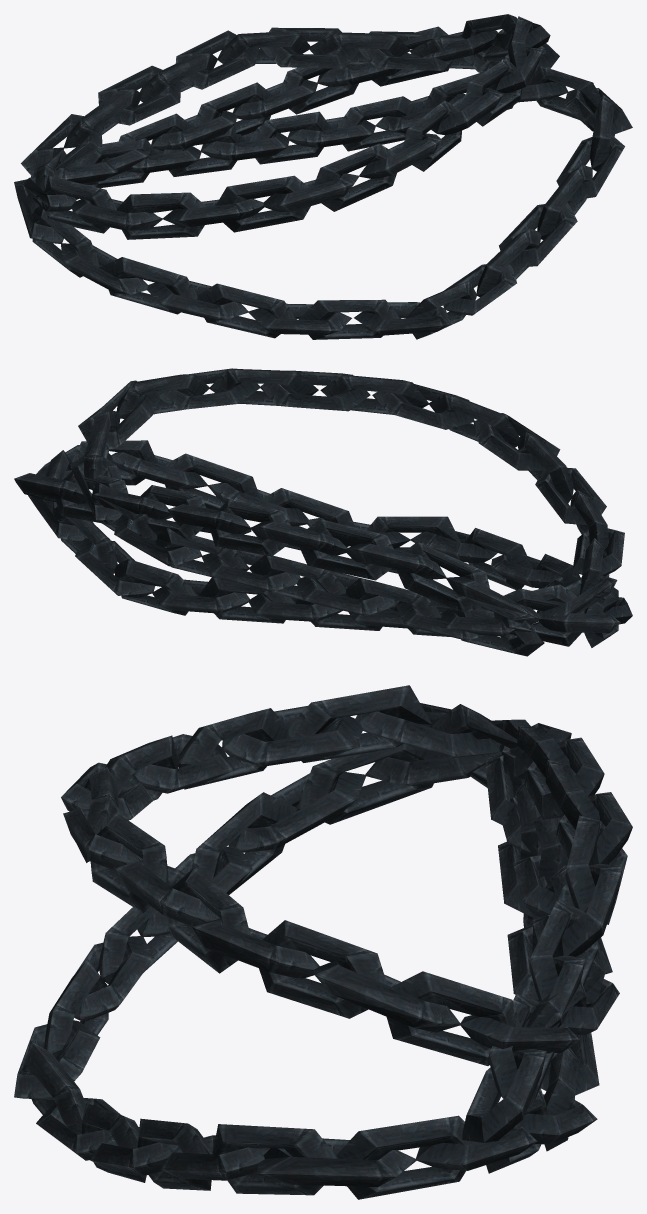
The model's file is 10507_Chain01.FBX.
3 renders of one model, top to bottom at view 1: azimuth 30°, elevation 25°; view 2: azimuth 150°, elevation 25°; view 3: azimuth 270°, elevation 25°, orthographic. The views are drawn at different scales.
Visible parts, largest first — view 1: 10507_Chain01; view 2: 10507_Chain01; view 3: 10507_Chain01.
Part boxes in pixels (x1=…): 10507_Chain01: x1=14, y1=14, x2=632, y2=339; 10507_Chain01: x1=14, y1=368, x2=632, y2=656; 10507_Chain01: x1=14, y1=685, x2=632, y2=1199.
Size of the model in its own units: 1051 by 357 by 627.
